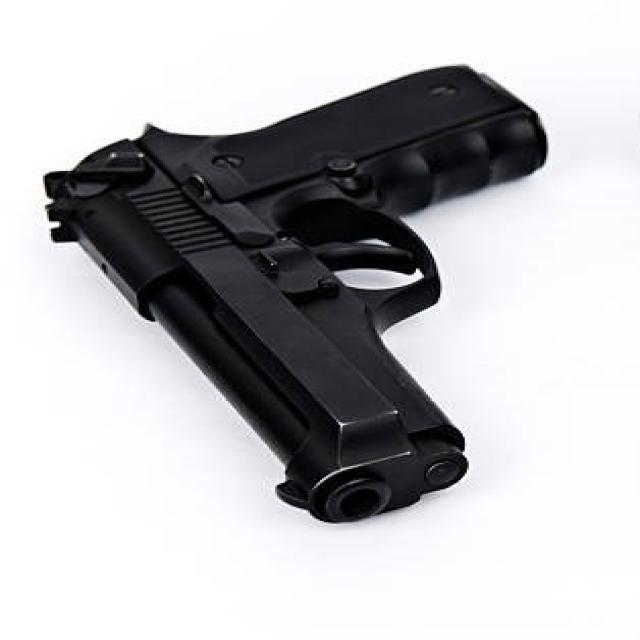pistol: (29, 57, 559, 526)
